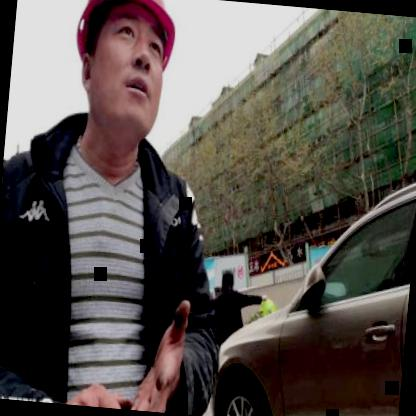helmet: (66, 0, 181, 141)
